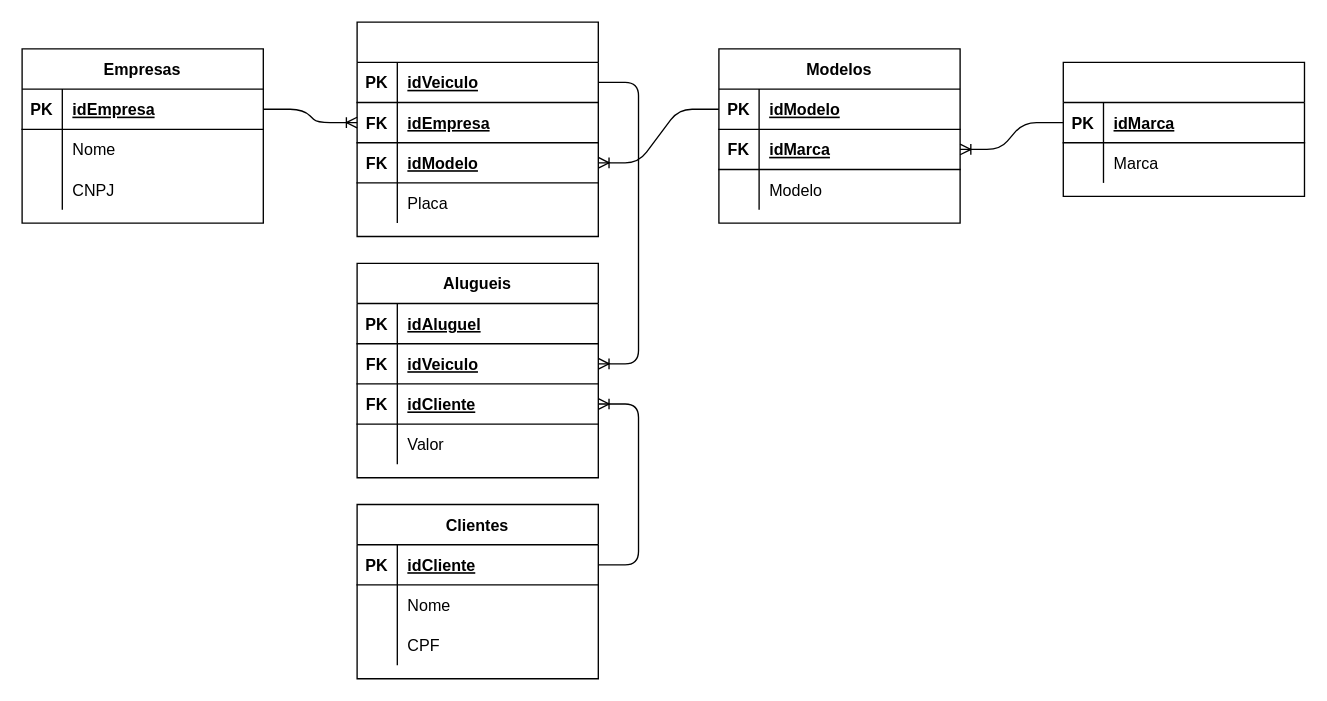
This 1327x701 diagram has some shape labels left out. Each missing label, with the box of its shape:
Marcas: (1062, 61, 1304, 196)
Veiculos: (356, 21, 598, 237)
